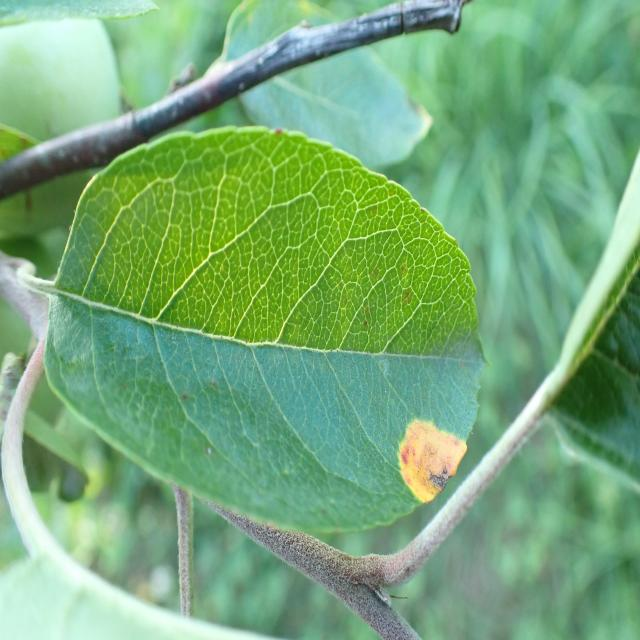rust: (42, 125, 490, 534)
